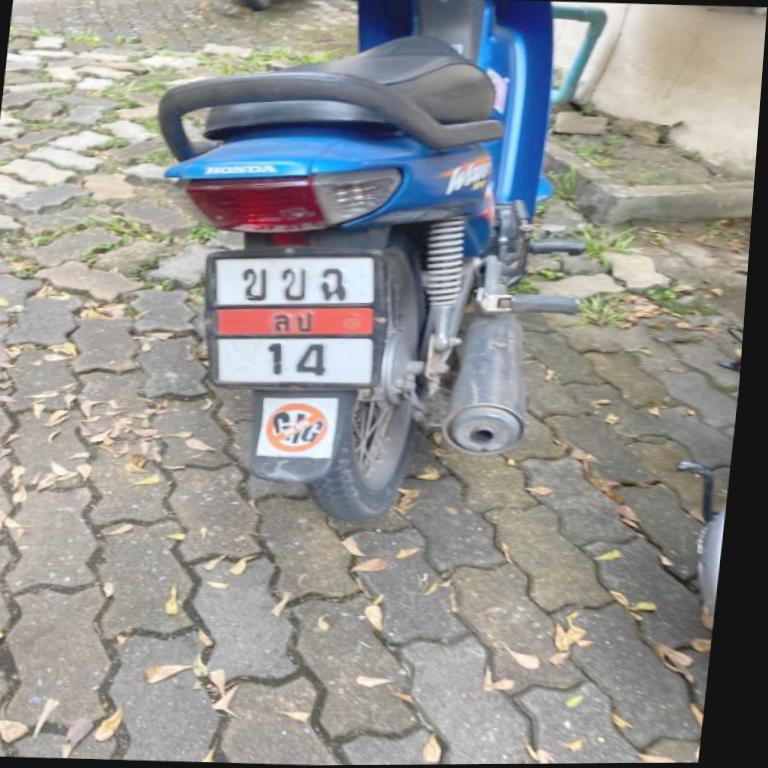license plate: (209, 257, 376, 386)
